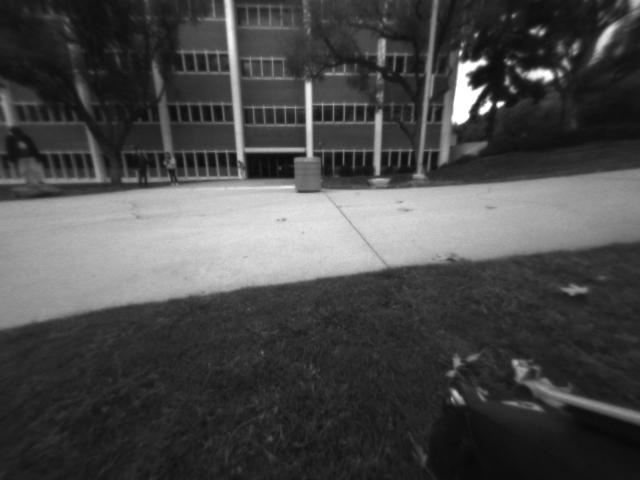trashcan: (296, 156, 326, 196)
